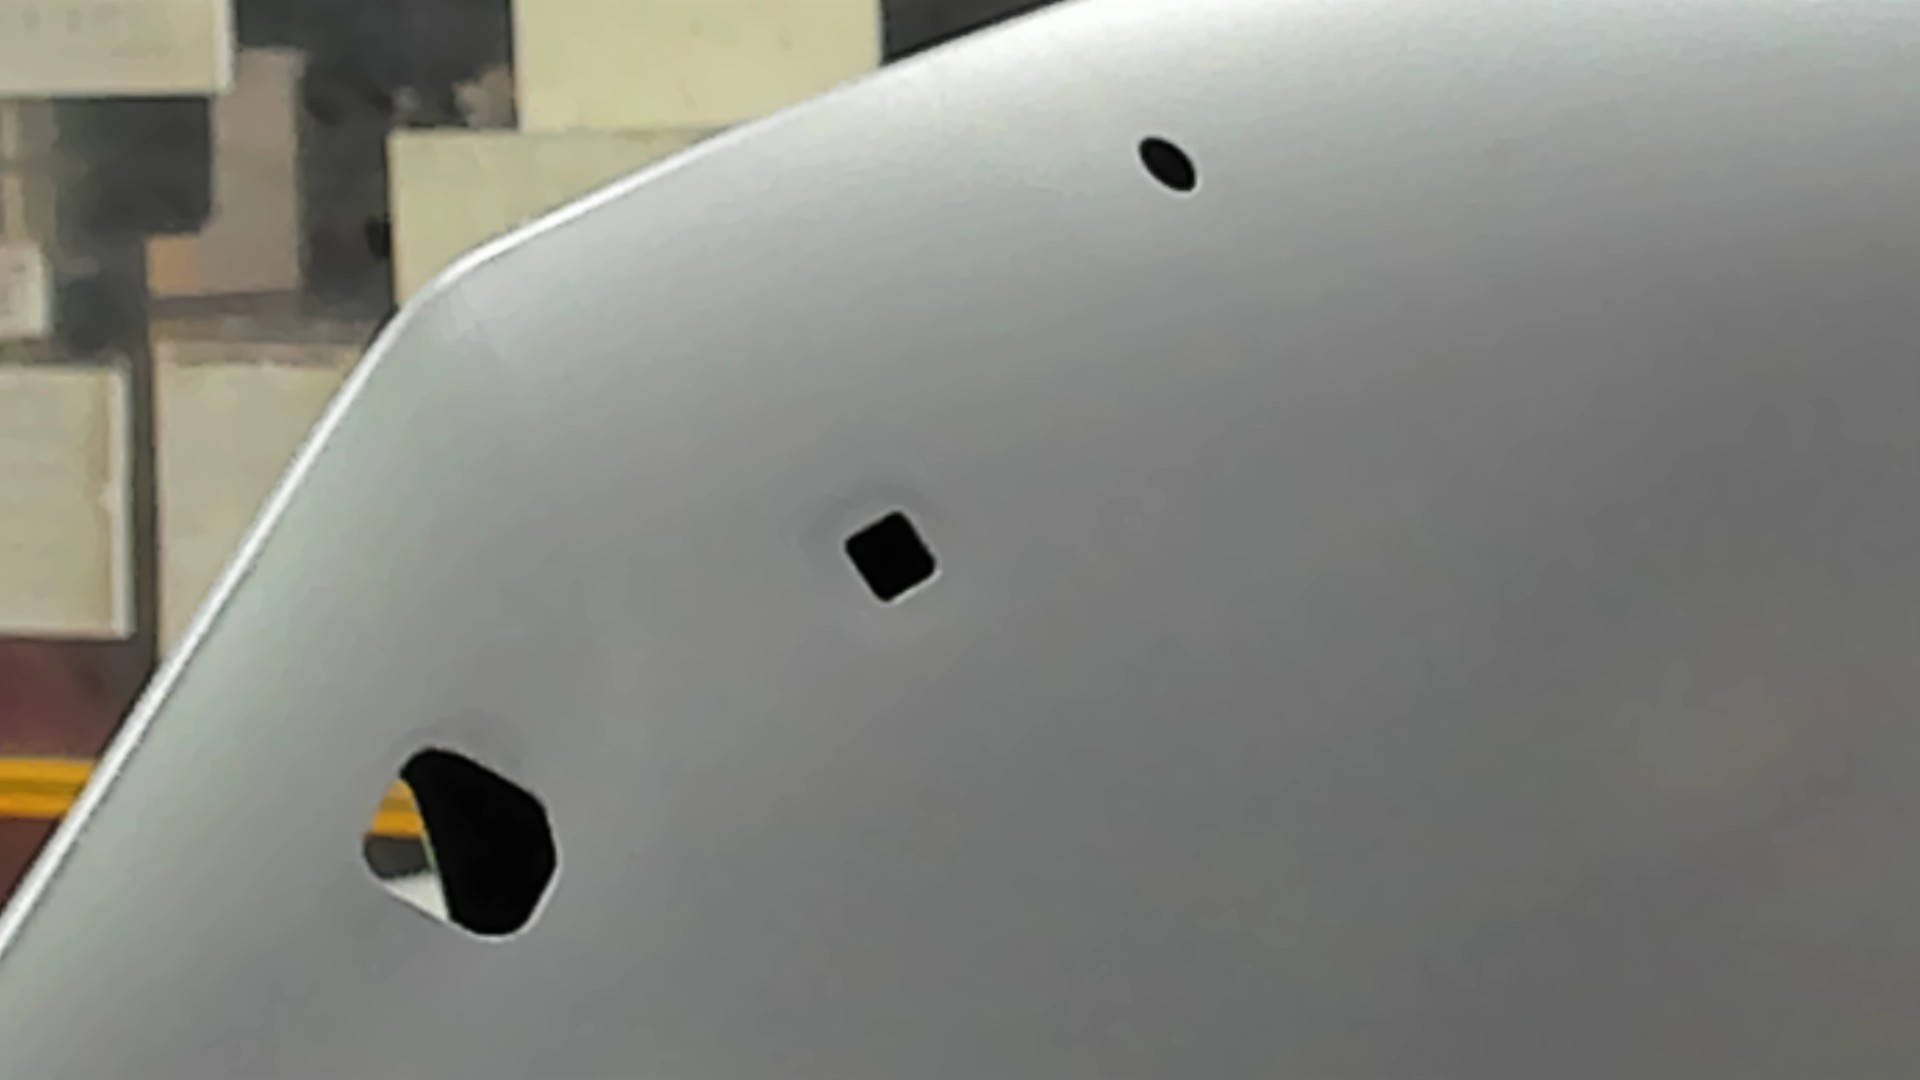chico: (1130, 129, 1207, 199)
grande: (352, 738, 568, 949)
mediano: (837, 501, 945, 615)
